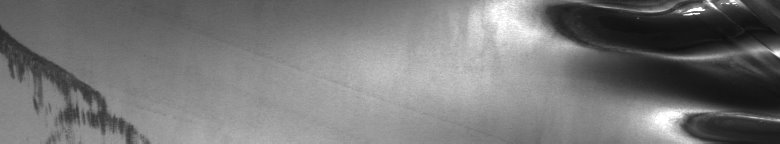ke: (544, 4, 776, 136)
